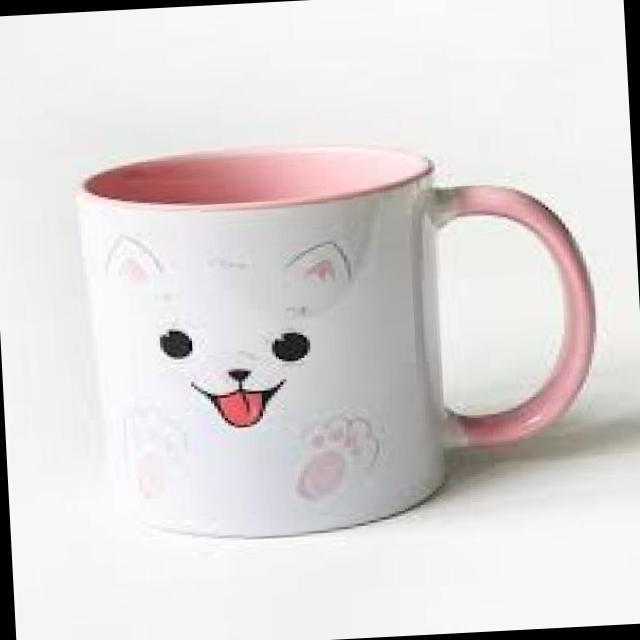taza: (76, 132, 606, 548)
